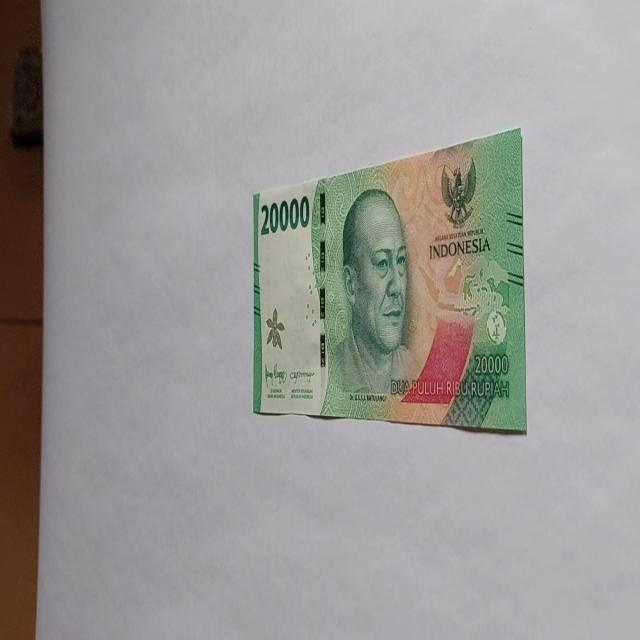dua puluh ribu rupiah: (252, 125, 526, 433), (326, 185, 422, 410)
